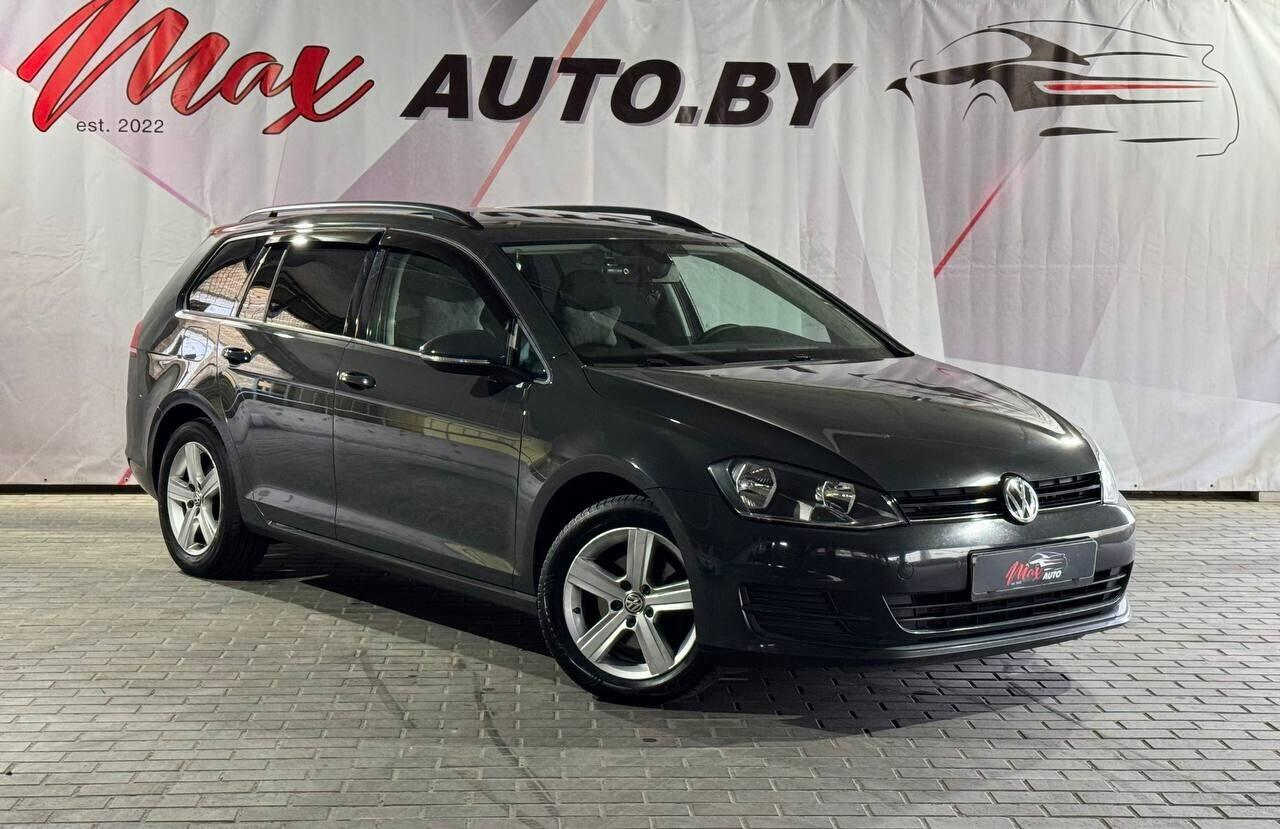Golf_2012-2017: (125, 204, 1148, 714)
